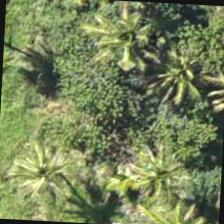Kelapa_Sawit: (81, 0, 176, 84), (139, 32, 223, 127)
